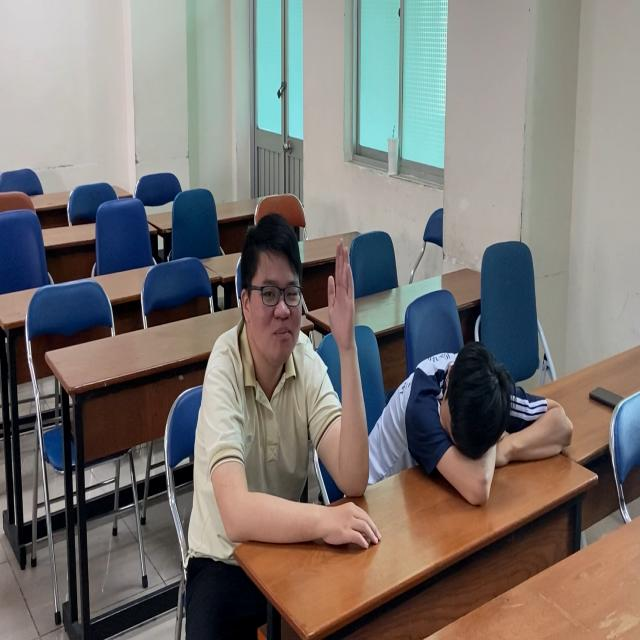raise_hand: (206, 216, 370, 542)
sleep: (380, 347, 575, 513)
